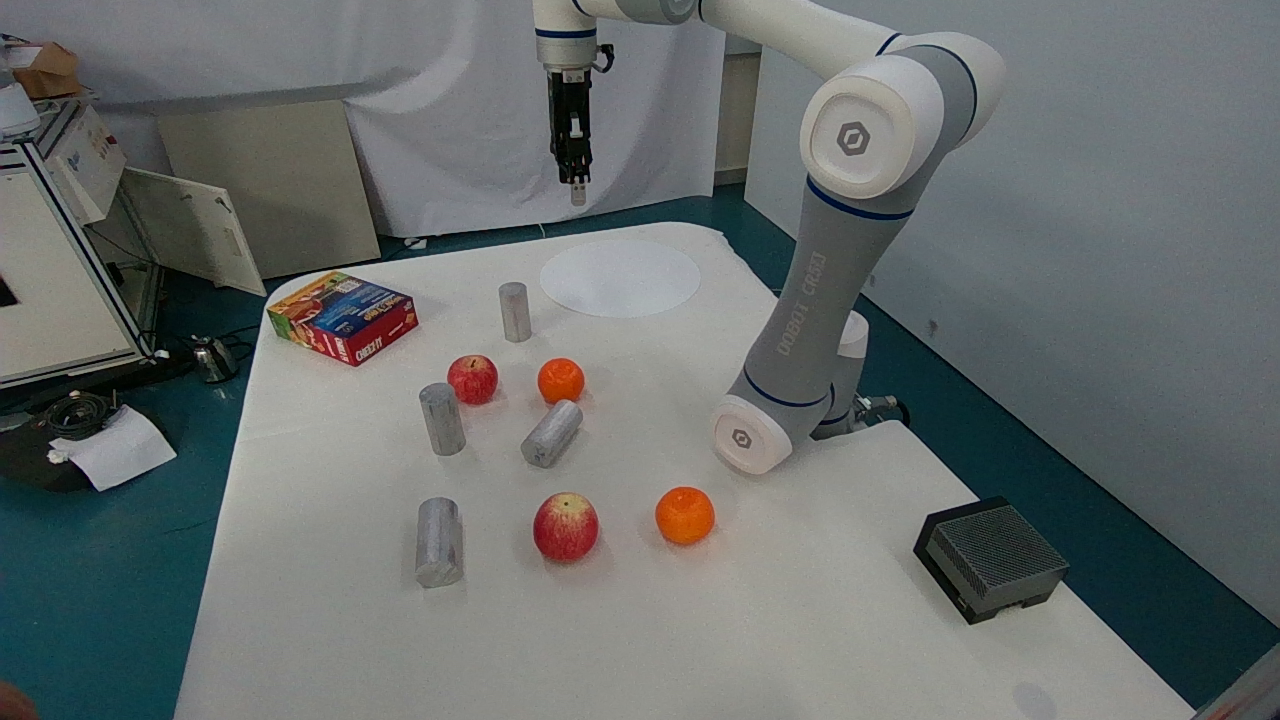apple: (634, 469, 744, 555), (527, 346, 597, 404)
metal rod: (515, 481, 606, 568), (434, 337, 510, 415)
orange: (511, 383, 596, 468), (404, 371, 480, 464), (401, 487, 467, 590), (491, 270, 546, 347)
